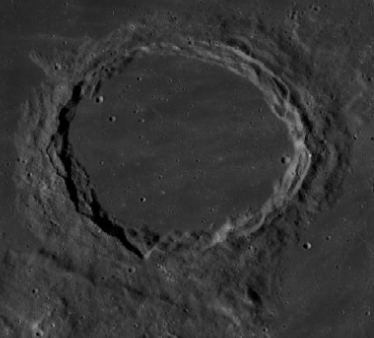crater: (16, 13, 360, 320)
